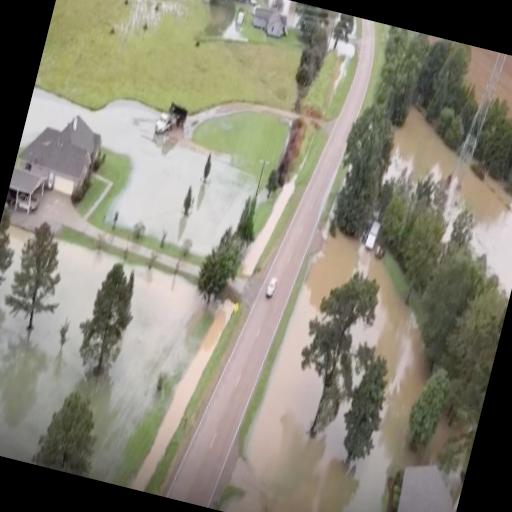flood: (0, 228, 212, 487), (245, 233, 426, 512), (20, 88, 255, 254), (447, 164, 512, 293), (385, 107, 458, 179), (204, 0, 299, 41), (328, 16, 354, 58), (129, 0, 169, 27)
house: (12, 99, 106, 204), (382, 456, 465, 512), (4, 162, 46, 214)
